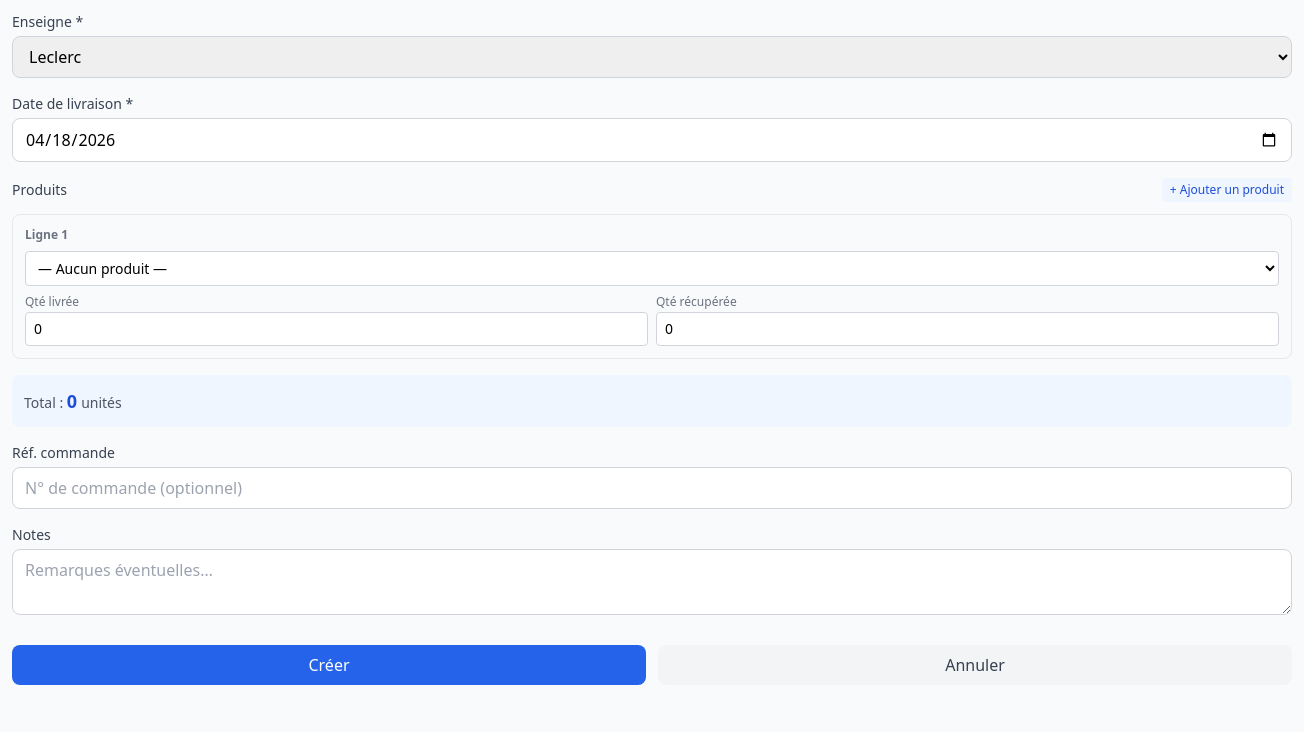
Scenario: DeliveryForm › shows total quantity as delivered - recovered
This screenshot has width=1304, height=732.
Replace the text in the number field below "Qté livrée" with "20" at (336, 329), box x1=25 y1=312 x2=648 y2=346
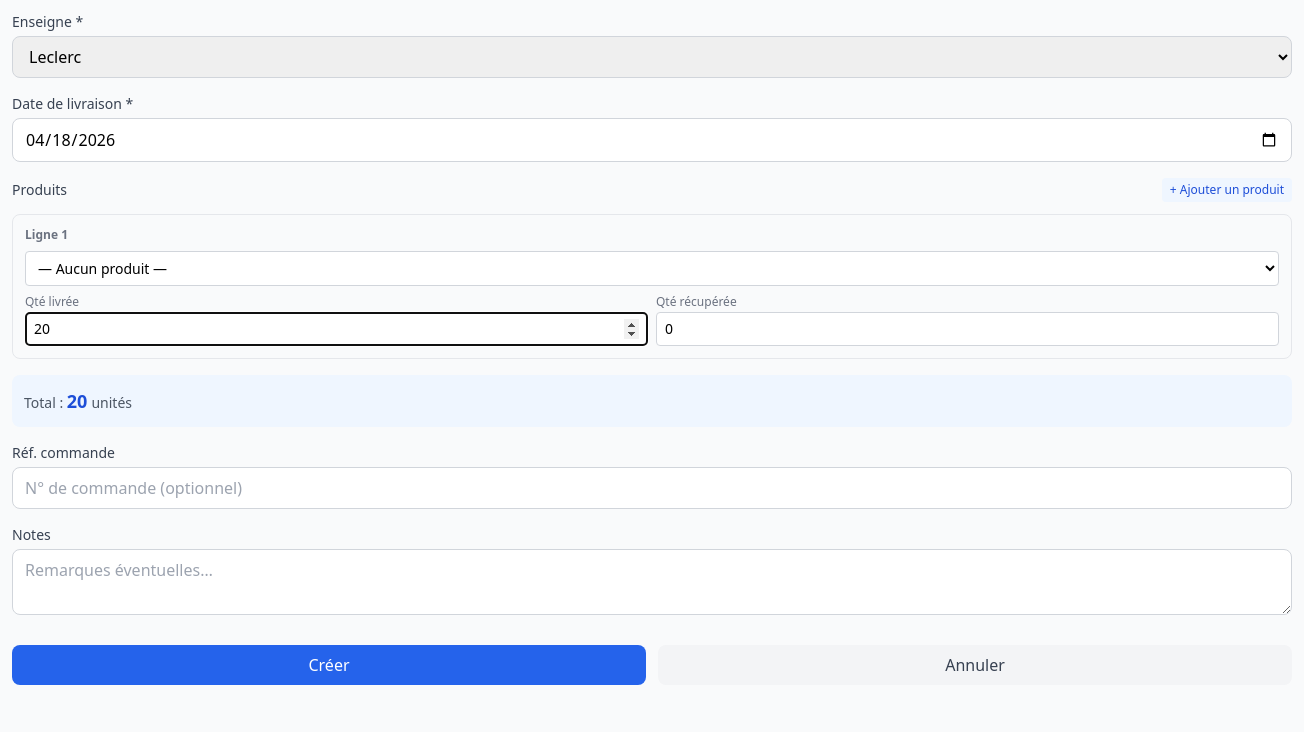
Replace the text in the number field below "Qté récupérée" with "5" at (968, 329), box x1=656 y1=312 x2=1279 y2=346
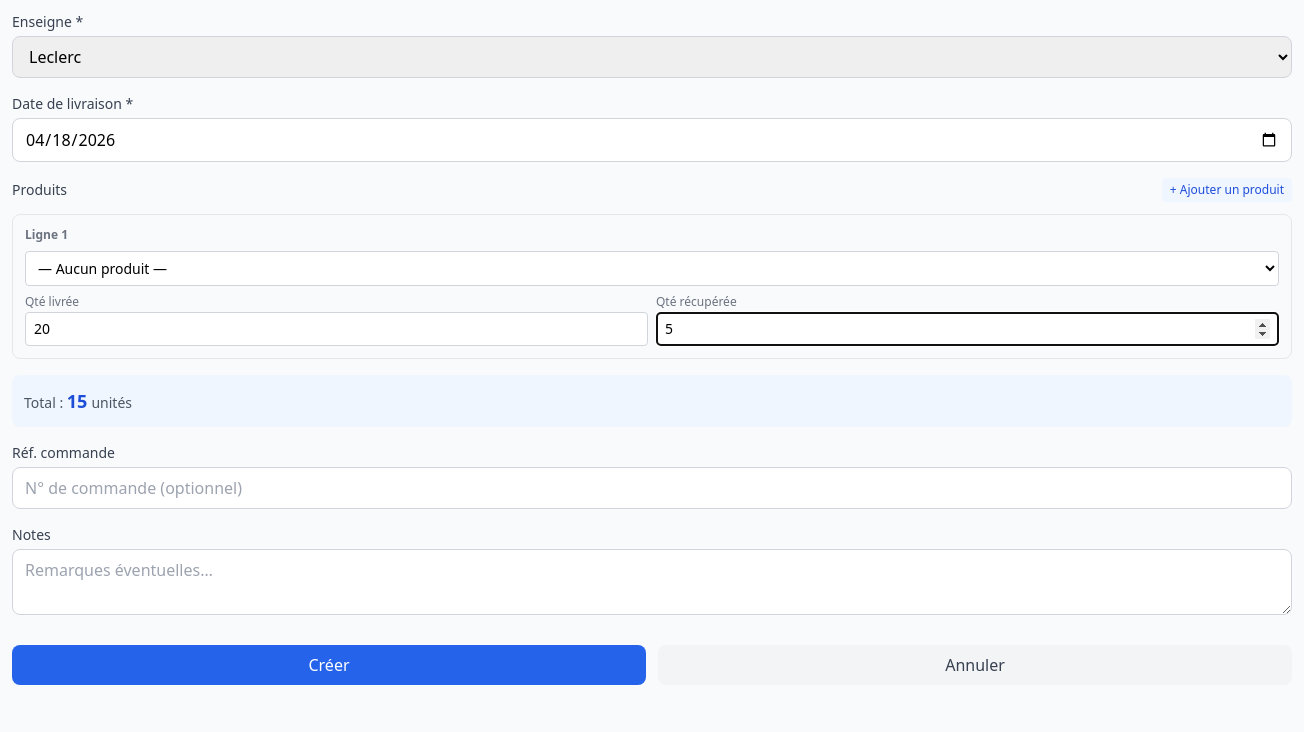
Expected: the text "15" is shown, x1=67 y1=389 x2=87 y2=413
